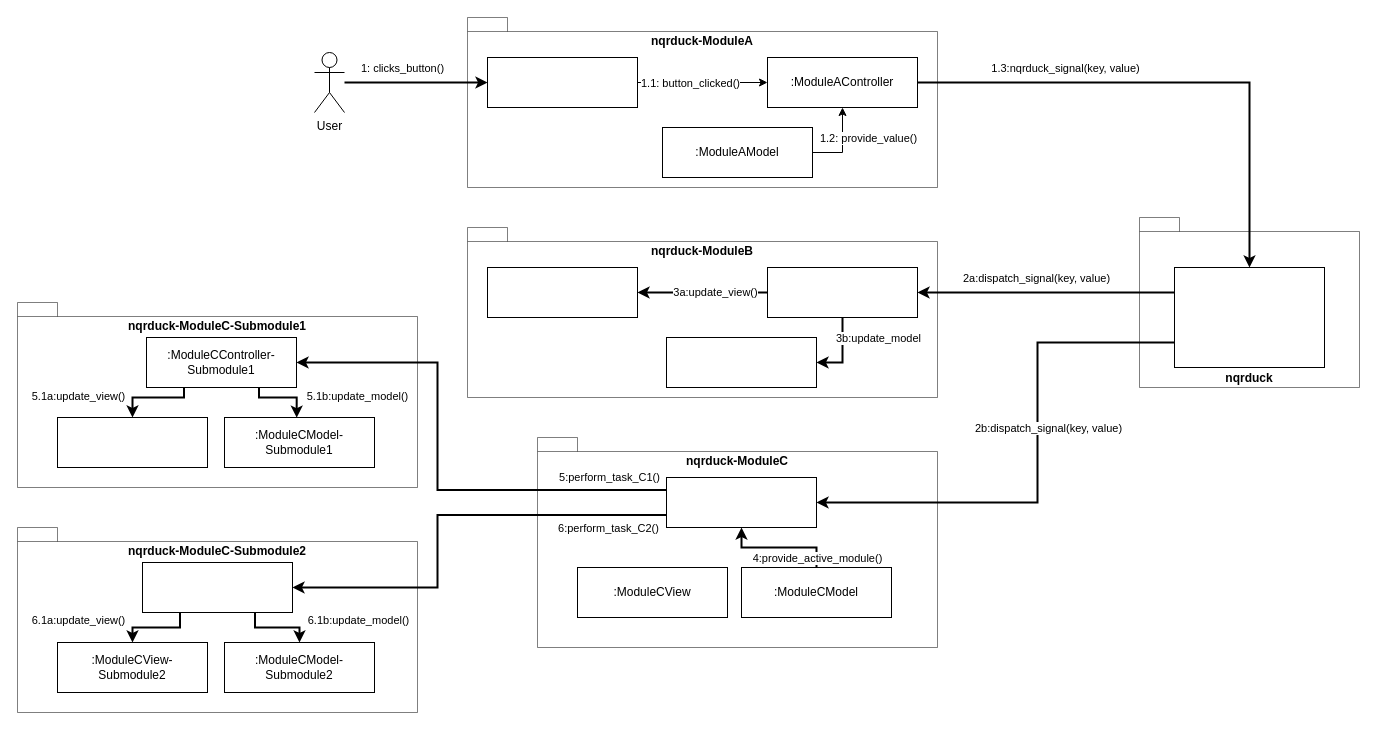
Image size: 1377x730. Some labels were removed from this diagram. The shapes that lost their labels are listed below. From the top down, each one's centre as x and y in pixels, then its label:
At point (562, 82): ":ModuleAView".
At point (562, 292): ":ModuleBView".
At point (842, 292): ":ModuleBController".
At point (1249, 317): ":MainController".
At point (741, 362): ":ModuleBModel".
At point (132, 442): ":ModuleCView-Submodule1".
At point (741, 502): ":ModuleCController".
At point (217, 587): ":ModuleCController-Submodule2".
